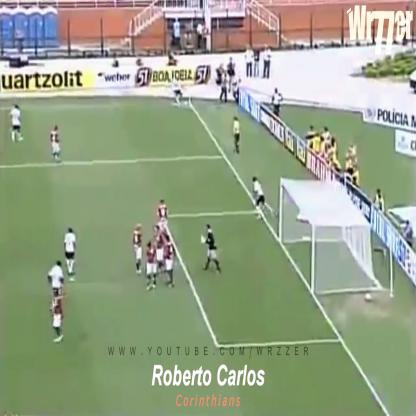corner kick: (162, 62, 213, 156)
